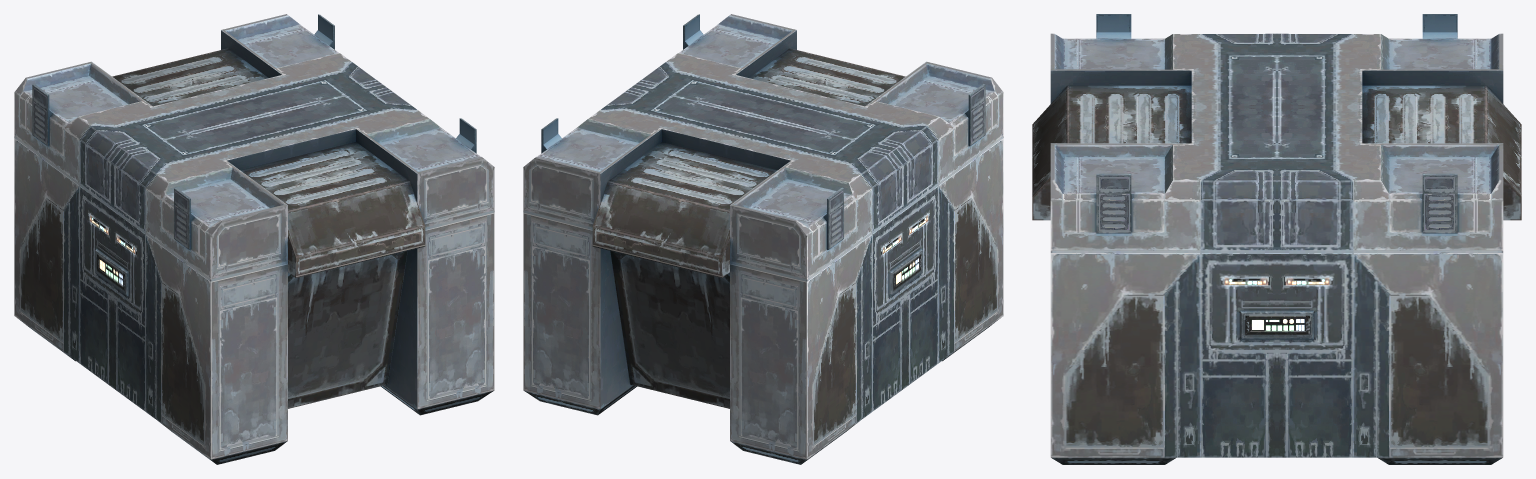
The model's file is hth_item_con_crate_stackable.glb.
3 views of the same model, side by side, from view 1: azimuth 30°, elevation 25°; view 2: azimuth 150°, elevation 25°; view 3: azimuth 270°, elevation 25° (orthographic). The views are drawn at different scales.
Parts seen in each view (by area): view 1: hth_item_con_crate_stackable; view 2: hth_item_con_crate_stackable; view 3: hth_item_con_crate_stackable.
Part boxes in pixels (x1,y1,x2,y2): hth_item_con_crate_stackable: (14,14,494,464); hth_item_con_crate_stackable: (523,14,1003,464); hth_item_con_crate_stackable: (1032,14,1521,464).
Bounding box in the file's own units: 0.1267 × 0.1089 × 0.1622.
1 material, 1 textured.
